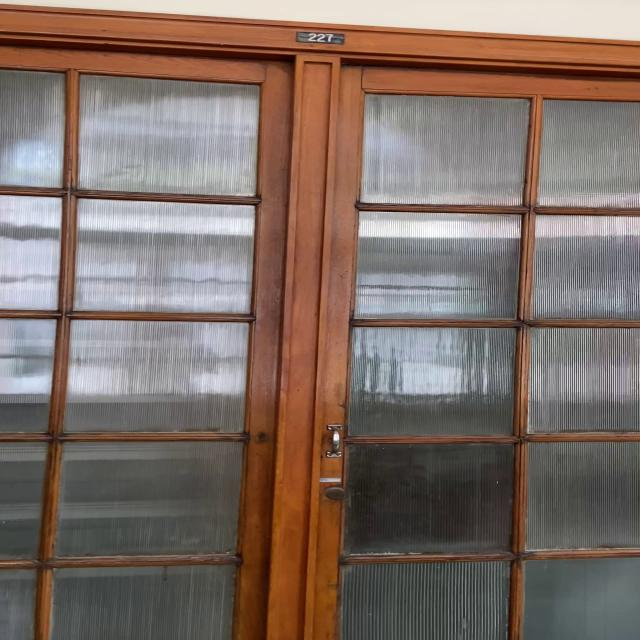room227: (292, 29, 346, 45)
